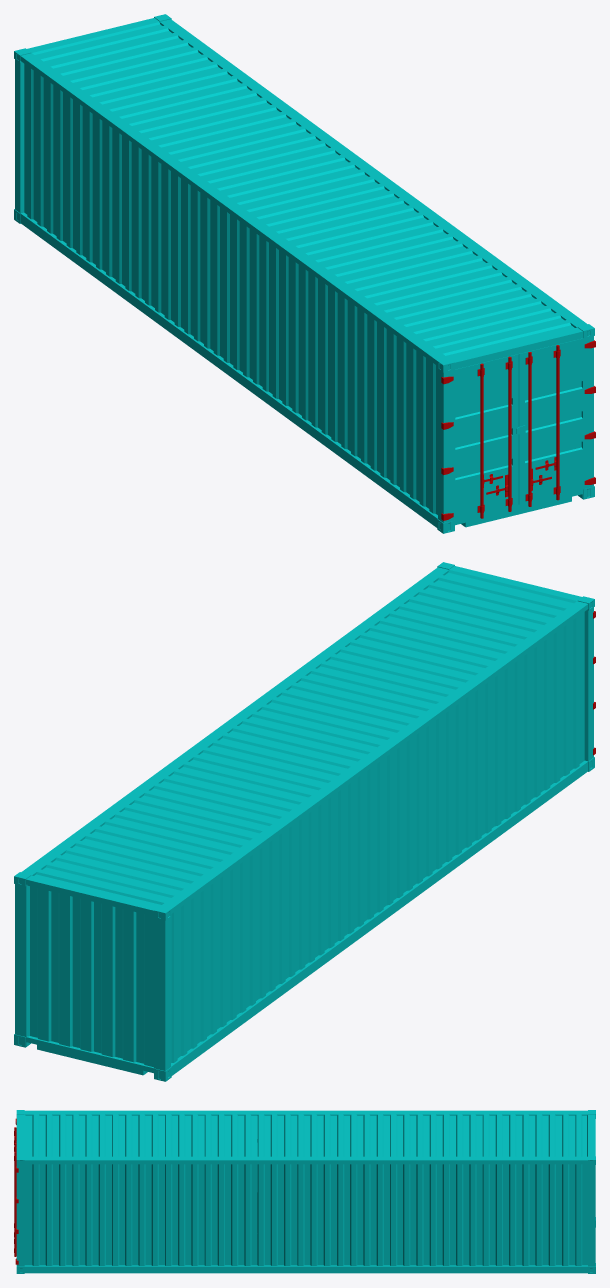
The model's file is Container_HPSP.fbx.
3 renders of one model, top to bottom at view 1: azimuth 30°, elevation 25°; view 2: azimuth 150°, elevation 25°; view 3: azimuth 270°, elevation 25°, orthographic. The views are drawn at different scales.
Parts seen in each view (by area): view 1: Container - 20ft (×2); view 2: Container - 20ft; view 3: Container - 20ft (×2).
Boxes of the visible parts, x1,y1,x2,y2 form: Container - 20ft (×2): (14,14,595,533); Container - 20ft: (14,562,594,1081); Container - 20ft (×2): (14,1110,595,1273).
Size of the model in its own units: 247 by 261 by 1210.
